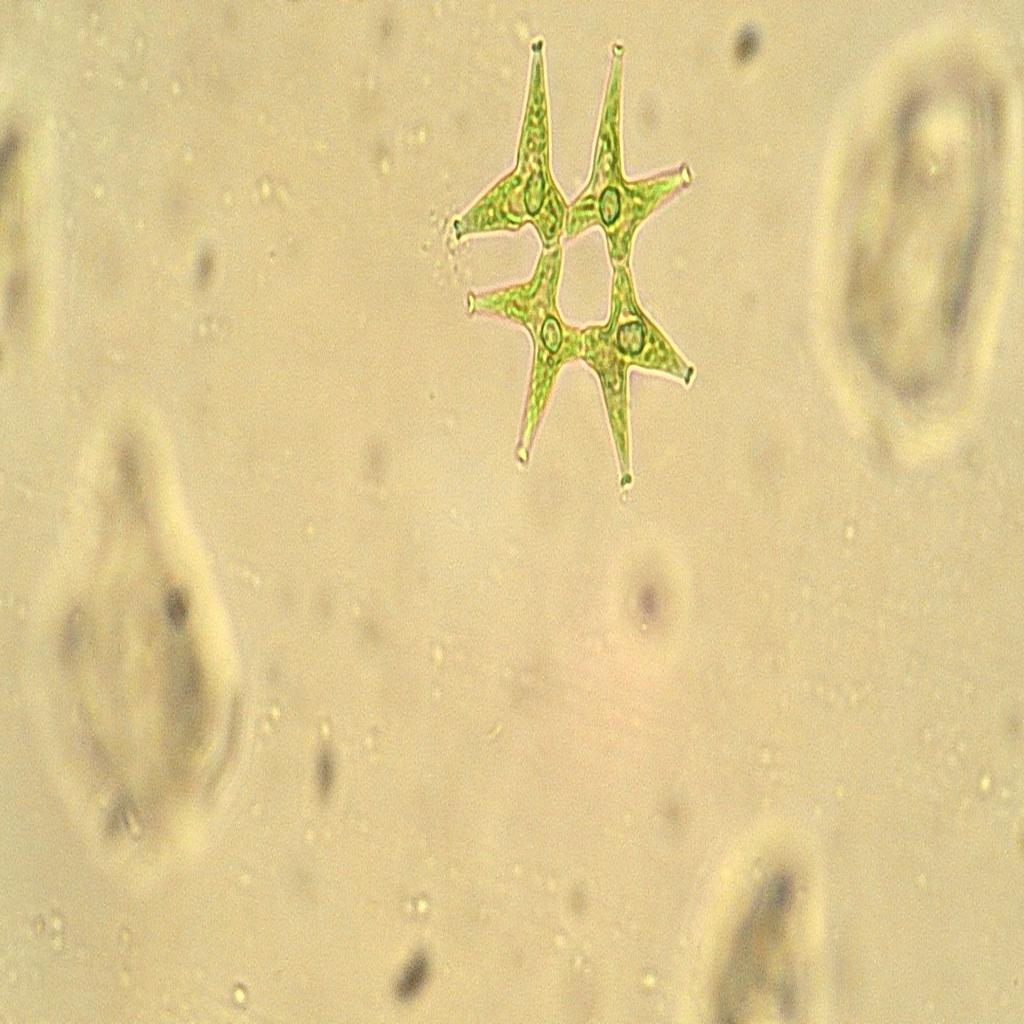Pediastrum_CT: (440, 18, 710, 522)
